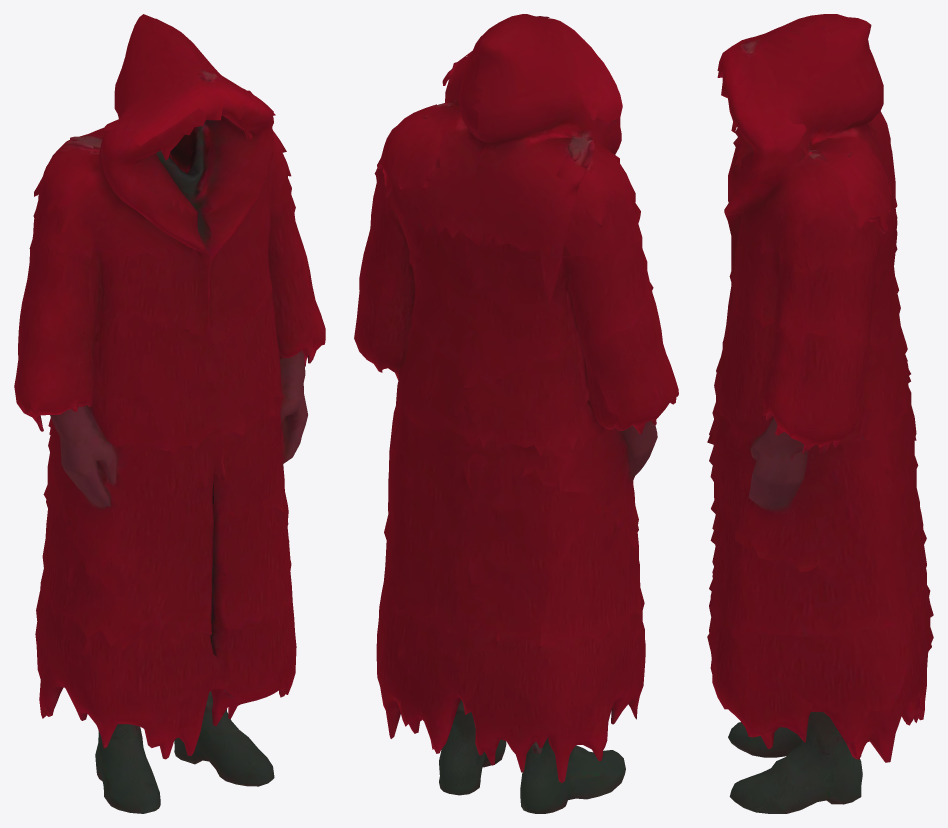
Rendered from cape-red.opt.glb.
The picture shows the model from 3 angles, left to right: view 1: azimuth 30°, elevation 25°; view 2: azimuth 150°, elevation 25°; view 3: azimuth 270°, elevation 25°; orthographic projection. The views are drawn at different scales.
Bounding box in the file's own units: 0.7944 × 1.91 × 0.5127.
Materials: 1 (1 with a texture image).
